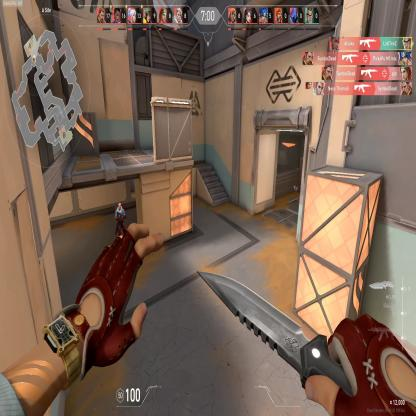enemy: (113, 200, 126, 230)
